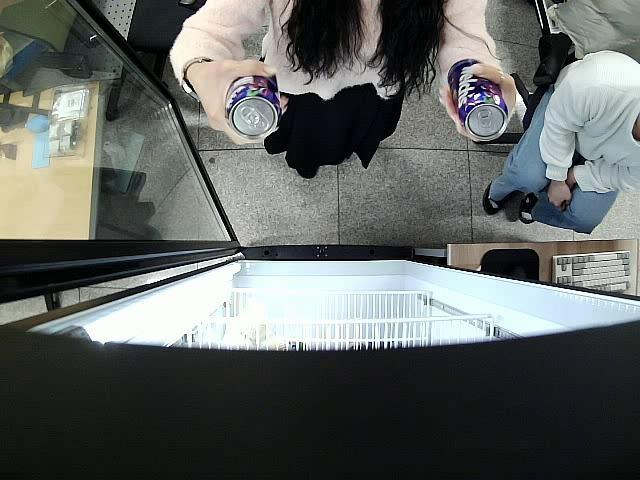14_welchsGrape: (448, 57, 508, 140), (224, 76, 280, 138)
